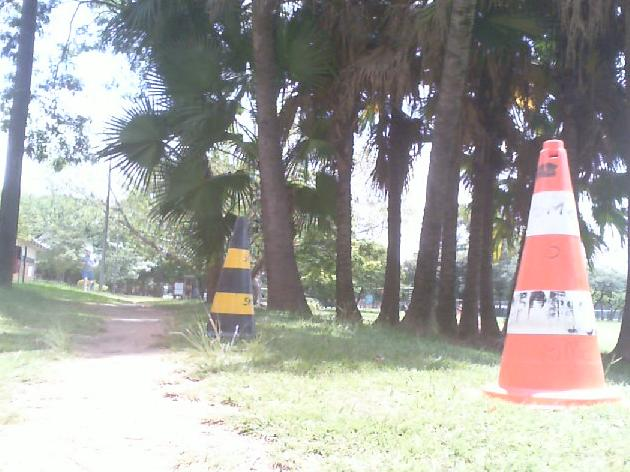0 cone: (481, 140, 630, 407), (200, 217, 258, 339)
